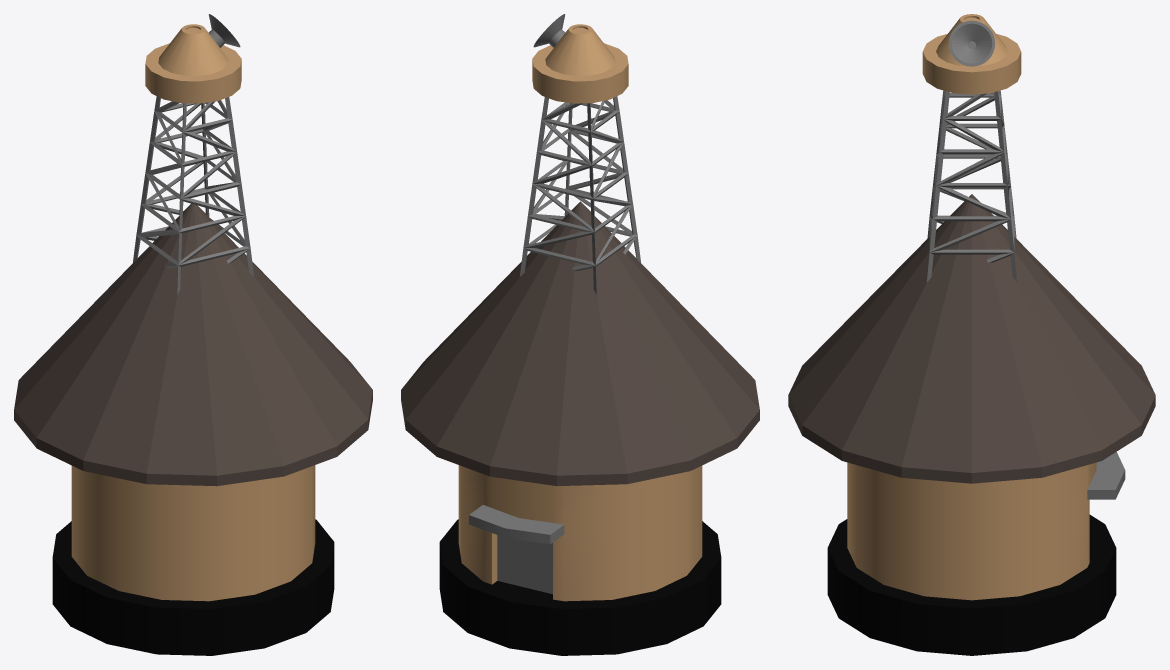
Rendered from support5_1.fbx.
3 renders of one model, left to right at view 1: azimuth 30°, elevation 25°; view 2: azimuth 150°, elevation 25°; view 3: azimuth 270°, elevation 25°, orthographic.
Visible parts, largest first — view 1: Cylinder.044, Cylinder.043, Cube.045, Cylinder.045, Circle; view 2: Cylinder.044, Cylinder.043, Cube.045, Cylinder.045, Circle; view 3: Cylinder.044, Cylinder.043, Cube.045, Cylinder.045, Circle.
Part boxes in pixels (x1,y1,x2,y2): Cylinder.044: (14,203,372,486); Cylinder.043: (52,465,334,655); Cube.045: (133,96,253,294); Cylinder.045: (145,24,241,103); Circle: (208,14,240,47); Cylinder.044: (401,201,759,486); Cylinder.043: (439,465,721,655); Cube.045: (520,96,640,294); Cylinder.045: (532,24,628,103); Circle: (533,14,565,47); Cylinder.044: (788,194,1155,483); Cylinder.043: (827,452,1125,655); Cube.045: (927,90,1016,281); Cylinder.045: (922,14,1021,94); Circle: (948,20,995,66).
Bounding box in the file's own units: 492 × 864 × 492.
